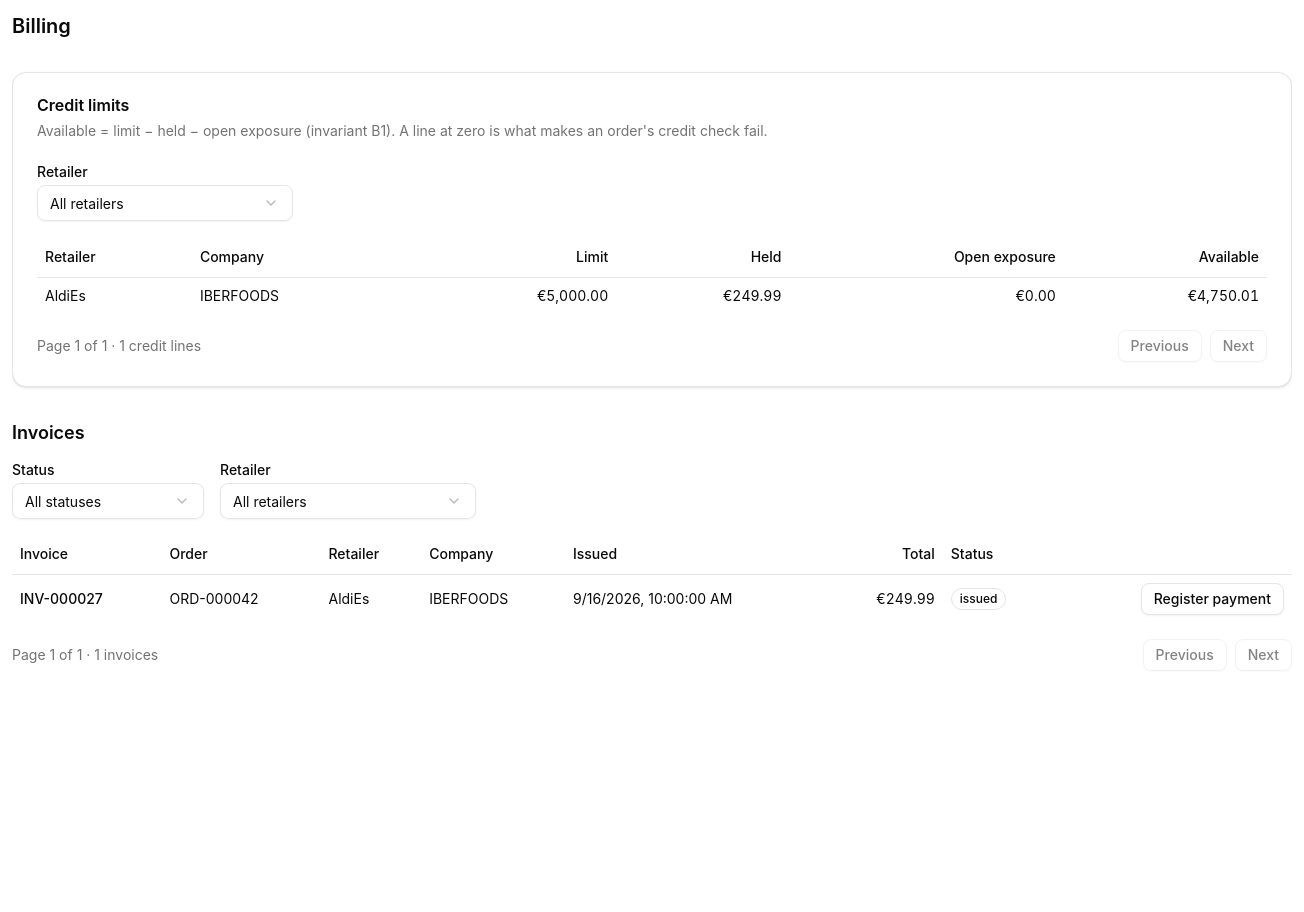
Test case: BillingView — Register payment (R47/R48) › suggests a reference shaped like the spec example and pre-fills the invoice total as a decimal
Step 1. Click the button with test id "register-payment-button" → click(1212, 599), box [1141,583,1284,615]
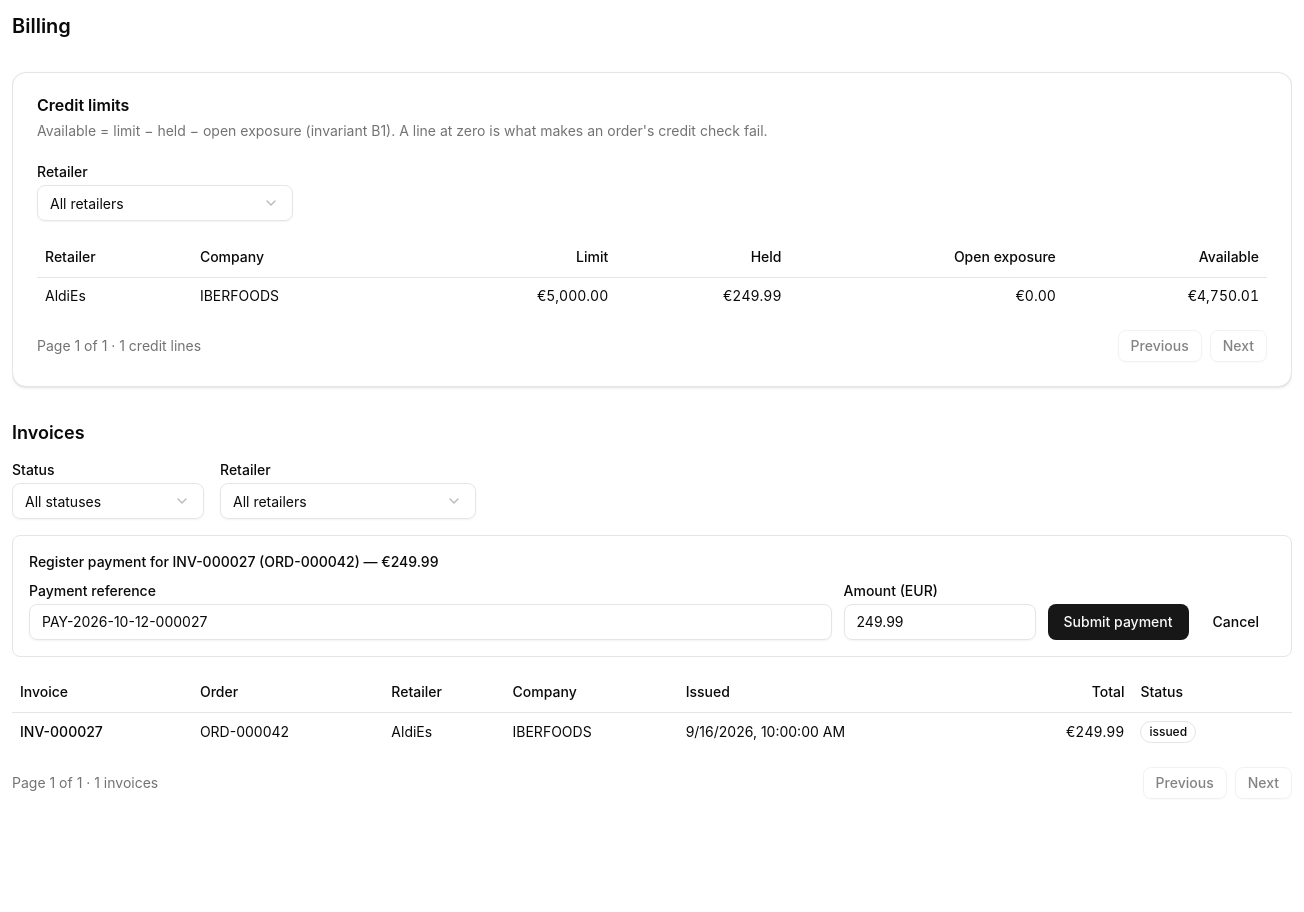
Expected: the field with test id "payment-amount-input" holds "249.99", [844,604,1036,640]
Expected: the button with test id "submit-payment-button" is enabled, [1048,604,1188,640]
